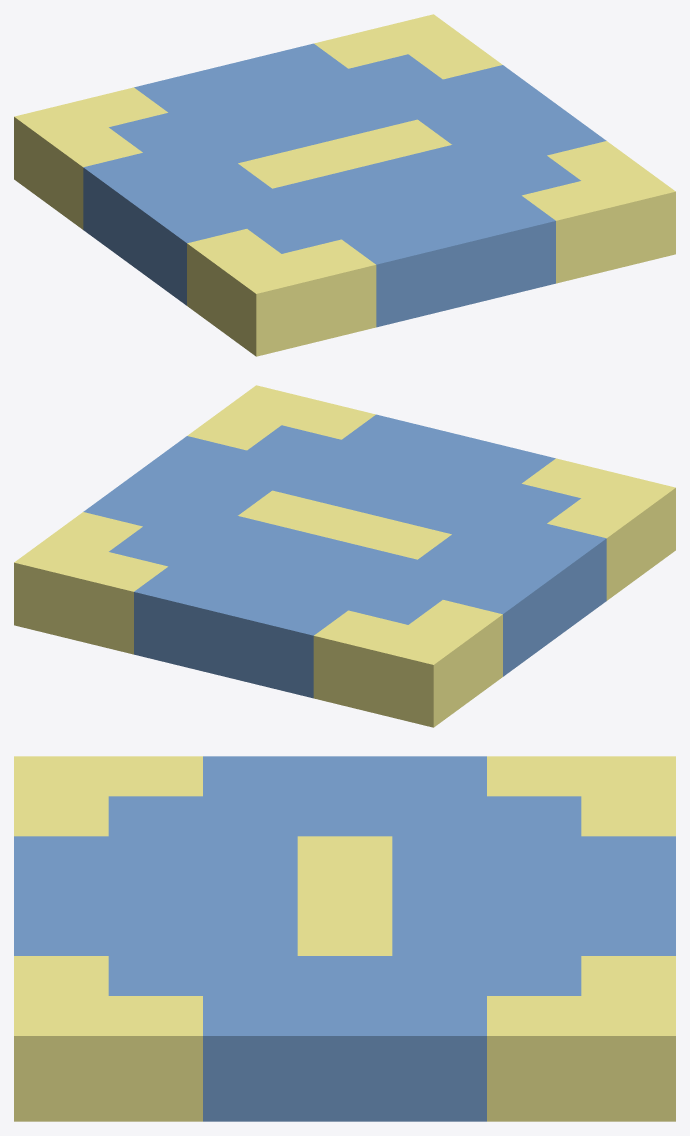
File: Brick4.obj
3 renders of one model, top to bottom at view 1: azimuth 30°, elevation 25°; view 2: azimuth 150°, elevation 25°; view 3: azimuth 270°, elevation 25°, orthographic. The views are drawn at different scales.
Parts seen in each view (by area): view 1: Brick4; view 2: Brick4; view 3: Brick4.
Boxes of the visible parts, x1,y1,x2,y2 form: Brick4: (14,14,675,356); Brick4: (14,385,675,727); Brick4: (14,756,675,1121).
Bounding box in the file's own units: 7 × 1 × 7.
1 material, 1 textured.
